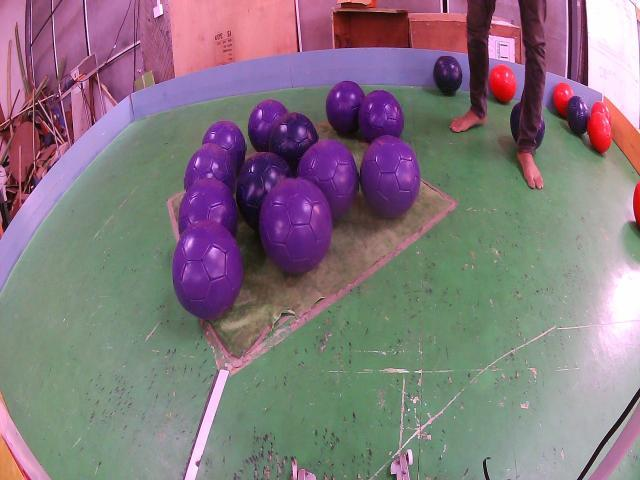jambhalya: (172, 220, 241, 320), (259, 179, 331, 273), (297, 140, 358, 220), (362, 137, 421, 218), (178, 179, 237, 238), (185, 145, 236, 193), (358, 90, 403, 143), (248, 99, 287, 152), (326, 80, 365, 133), (203, 122, 246, 170)
kaalyya: (237, 151, 293, 230), (271, 111, 318, 176), (434, 56, 462, 94), (567, 95, 589, 135)
